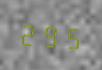five: (61, 20, 81, 52)
nine: (40, 19, 60, 50)
two: (18, 17, 38, 49)
